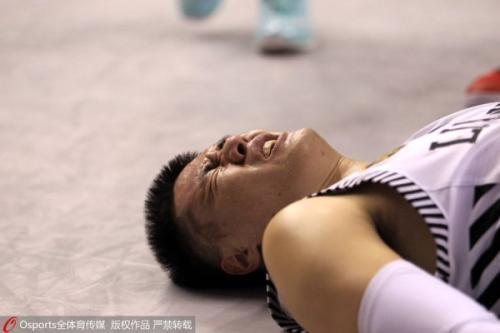Fall-Detected: (144, 34, 496, 327)
